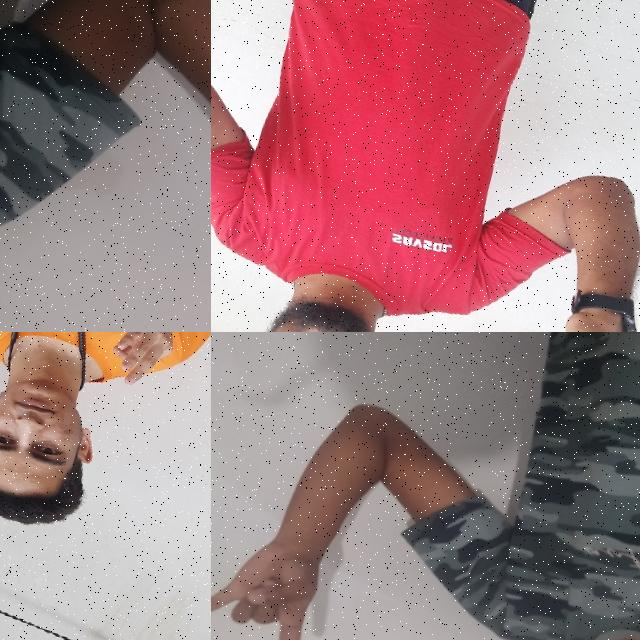Corna: (211, 482, 355, 640)
Reversed Victory: (502, 275, 640, 332)
